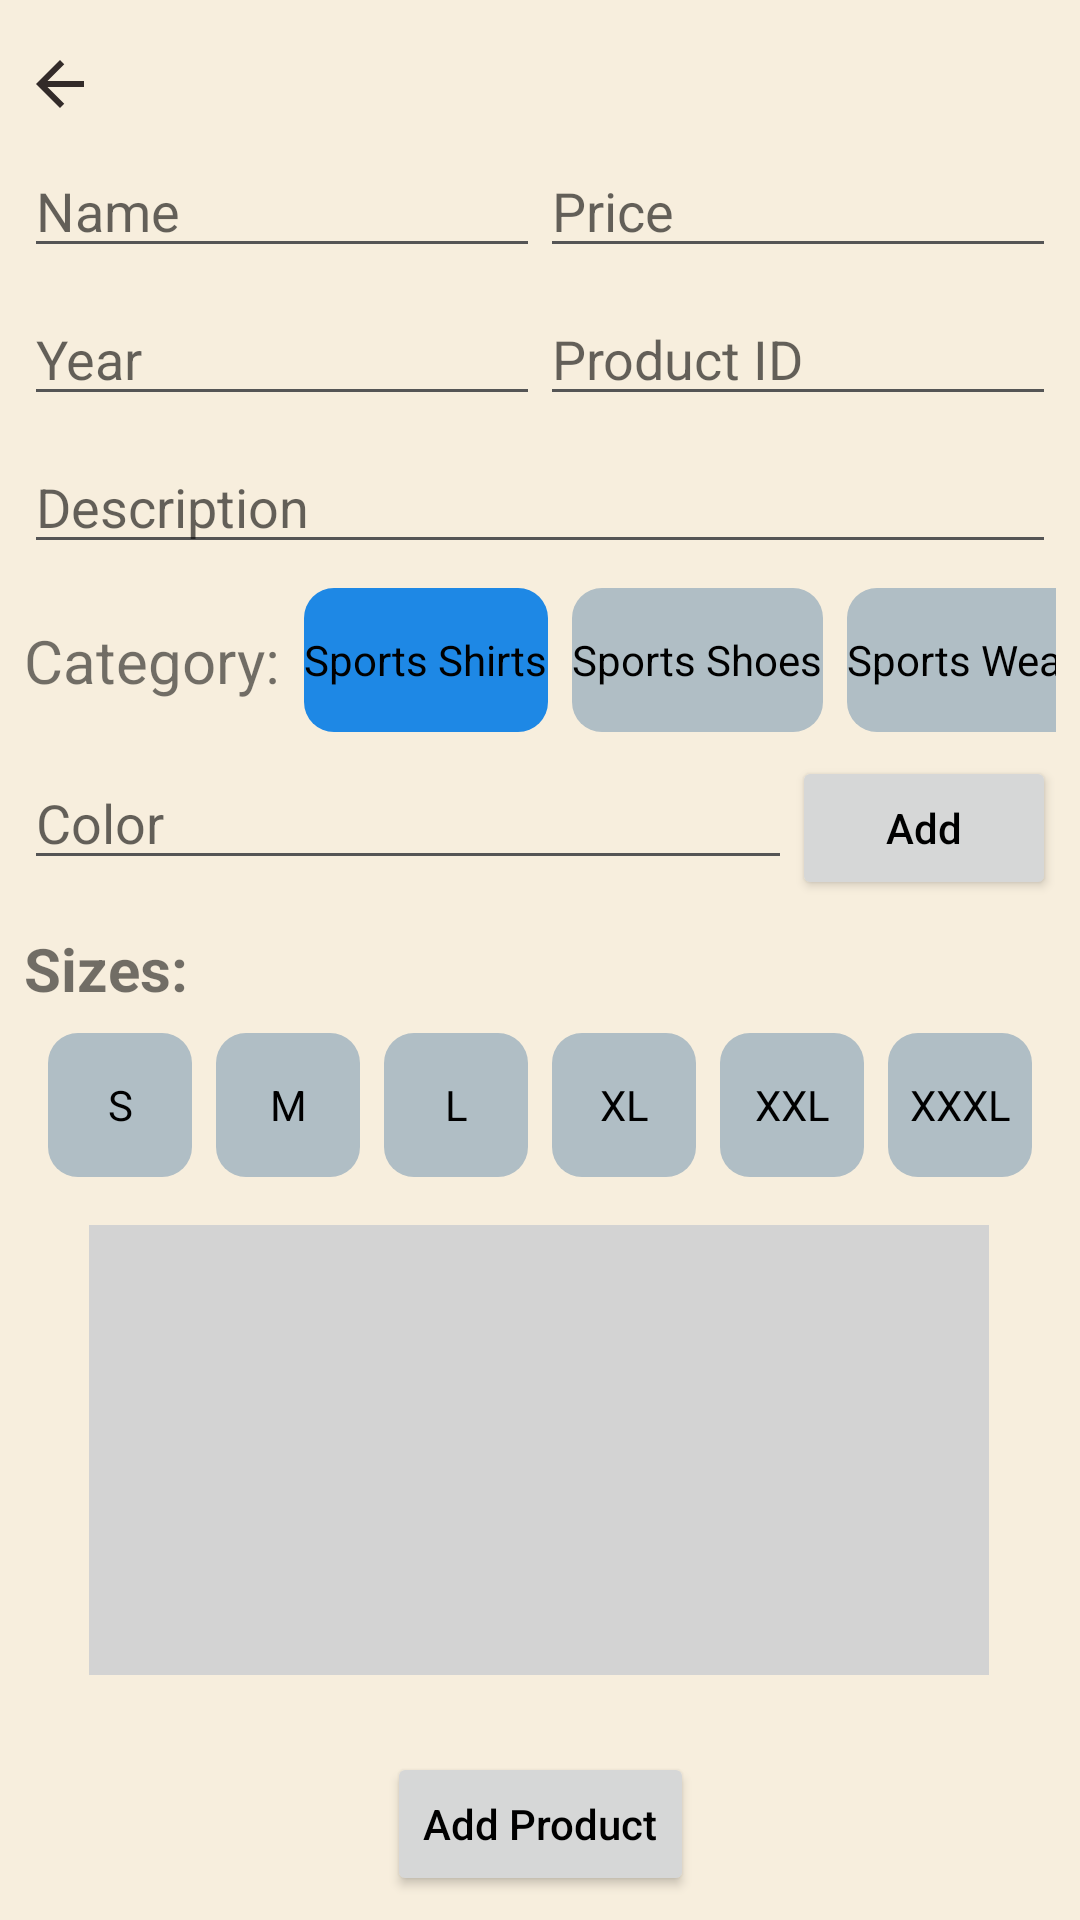

Named icons in this screenshot (1080x1920) and their bounding boxes, (x1, y1, x2, y2):
arrow back: (36, 60, 84, 108)
